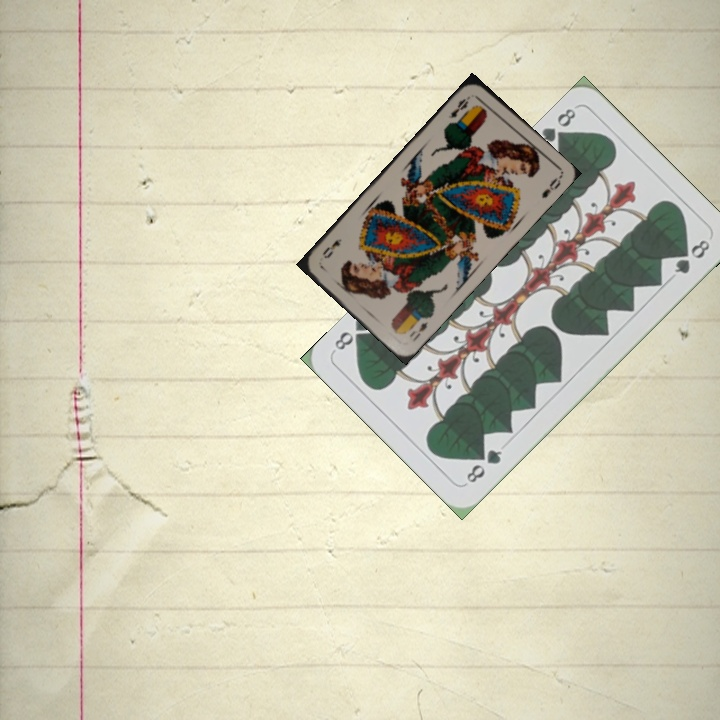EO: (444, 91, 473, 121), (405, 317, 431, 344)
G8: (536, 104, 579, 149), (462, 445, 505, 486)
